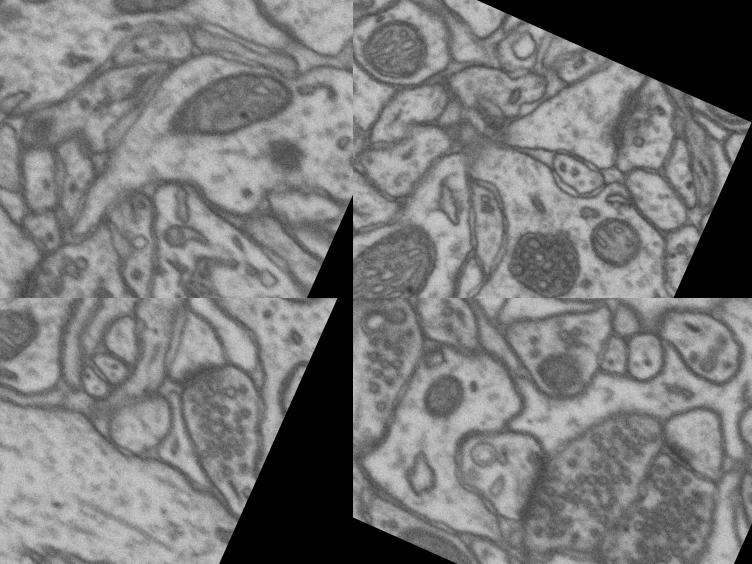mitochondria: (154, 33, 306, 183), (354, 0, 466, 95), (385, 500, 551, 564), (574, 191, 675, 291), (353, 208, 448, 298), (514, 322, 604, 410), (406, 360, 478, 438), (106, 0, 219, 46), (0, 298, 49, 389), (670, 88, 751, 136), (235, 298, 353, 328), (353, 0, 384, 32)
